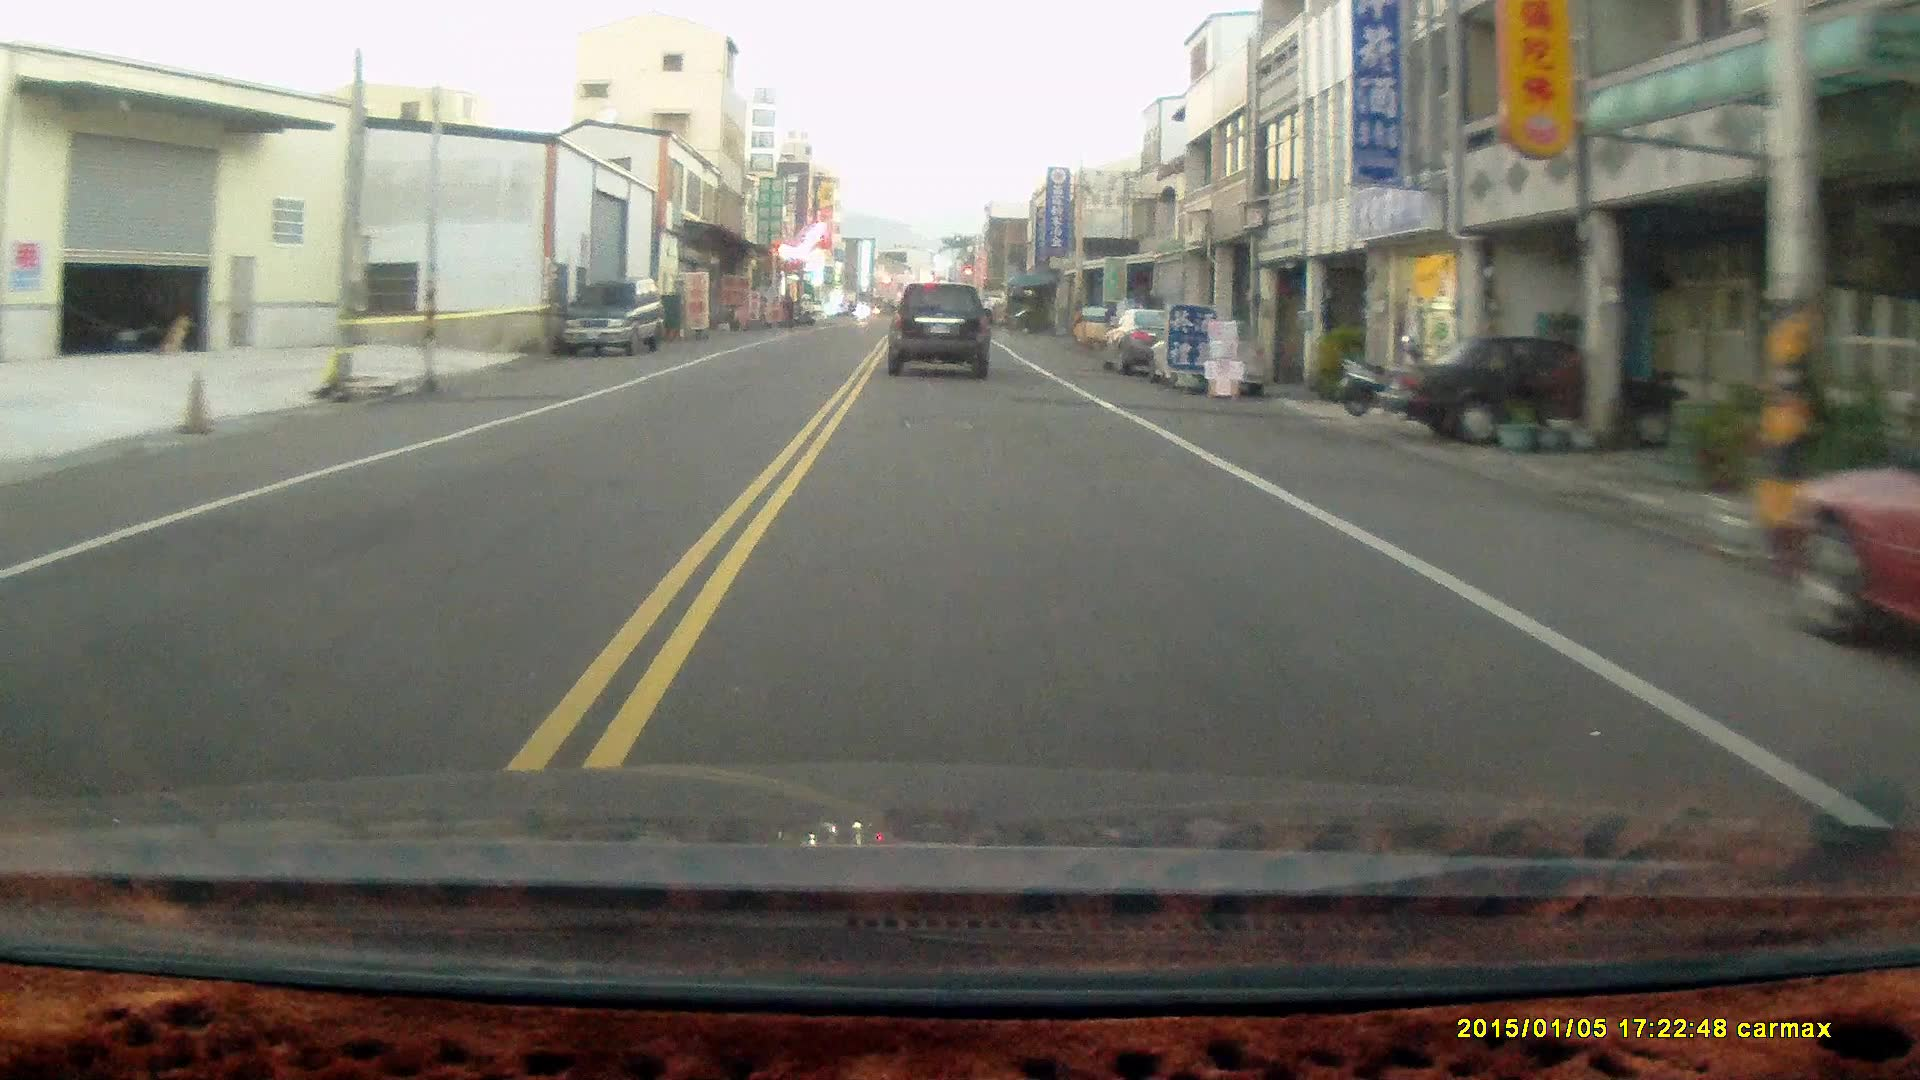vehicle: (1759, 394, 1920, 667), (1383, 334, 1706, 446), (889, 284, 994, 381), (1154, 316, 1273, 402), (562, 278, 669, 359)
